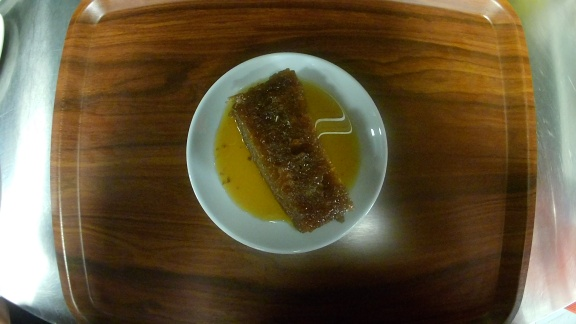ekmekkadayifi: (186, 51, 389, 255)
